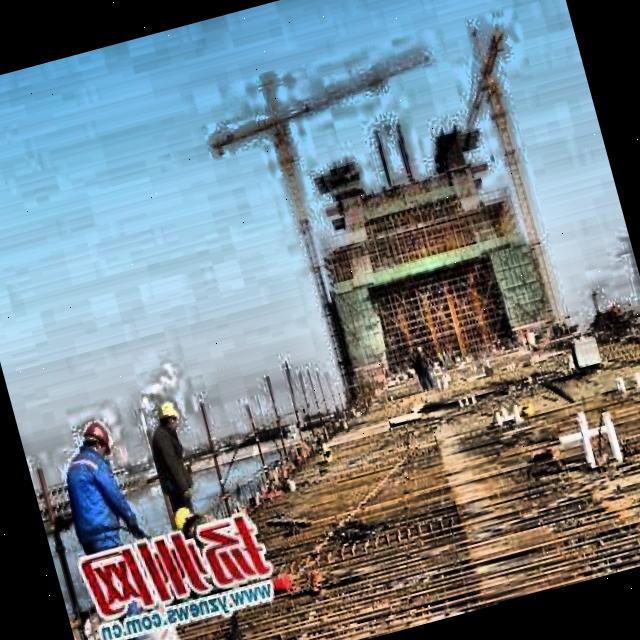helmet: (74, 416, 115, 466), (150, 394, 187, 442), (169, 504, 205, 542)
